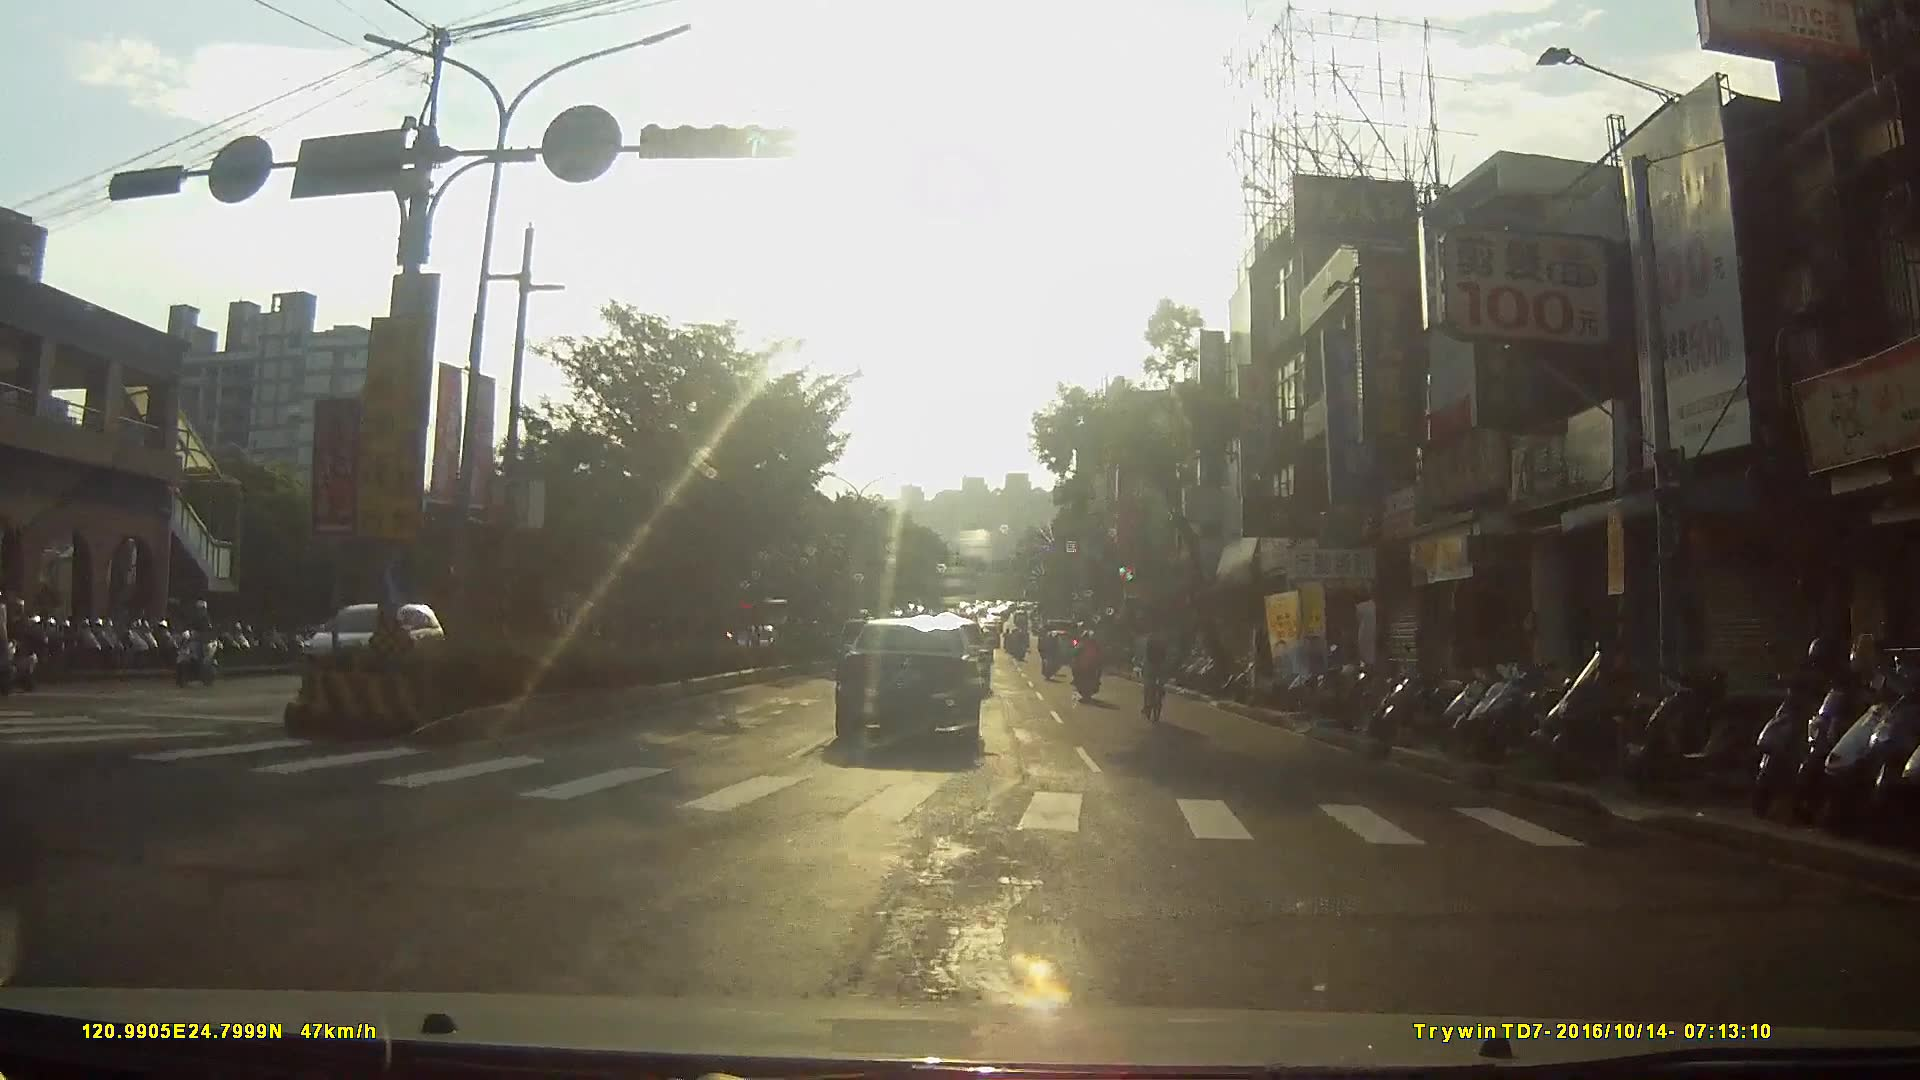rider: (1133, 614, 1179, 719), (1, 595, 42, 697), (174, 603, 219, 689), (1075, 632, 1104, 705), (1036, 632, 1064, 683)
vehicle: (837, 607, 985, 736)
